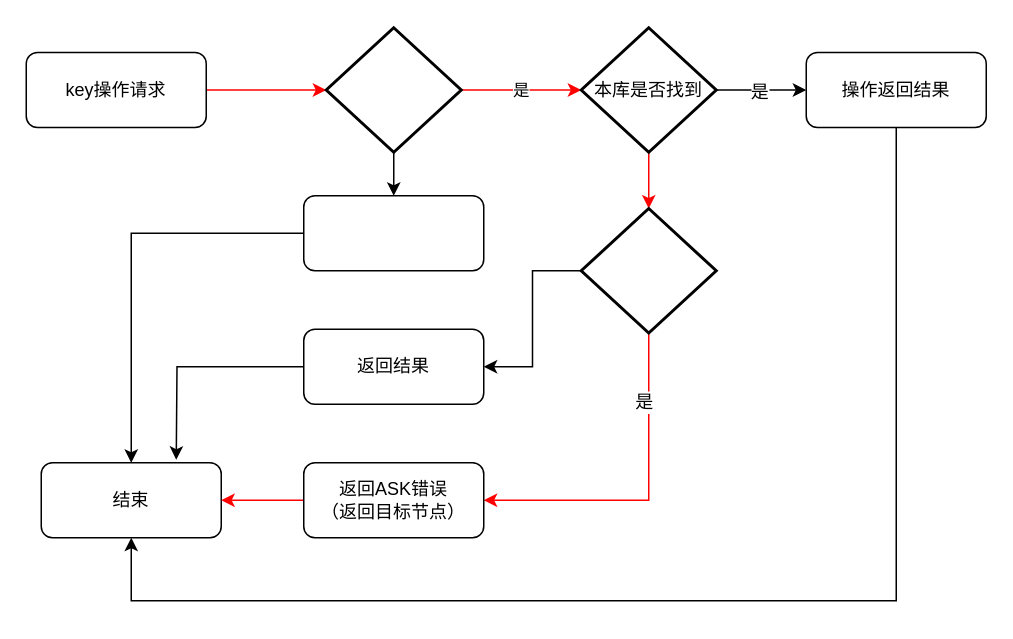
Some shapes in this 1013 by 639 pixel diagram are drawn without their labels. The shapes that lost their labels are listed below. From the top down, each one's centre as x and y in pixels, then its label:
At [393,89]: "key对应的槽是否本节点负责".
At [393,232]: "返回move错误 （告知目标节点）".
At [648,270]: "对应的槽是否正在迁移？".
